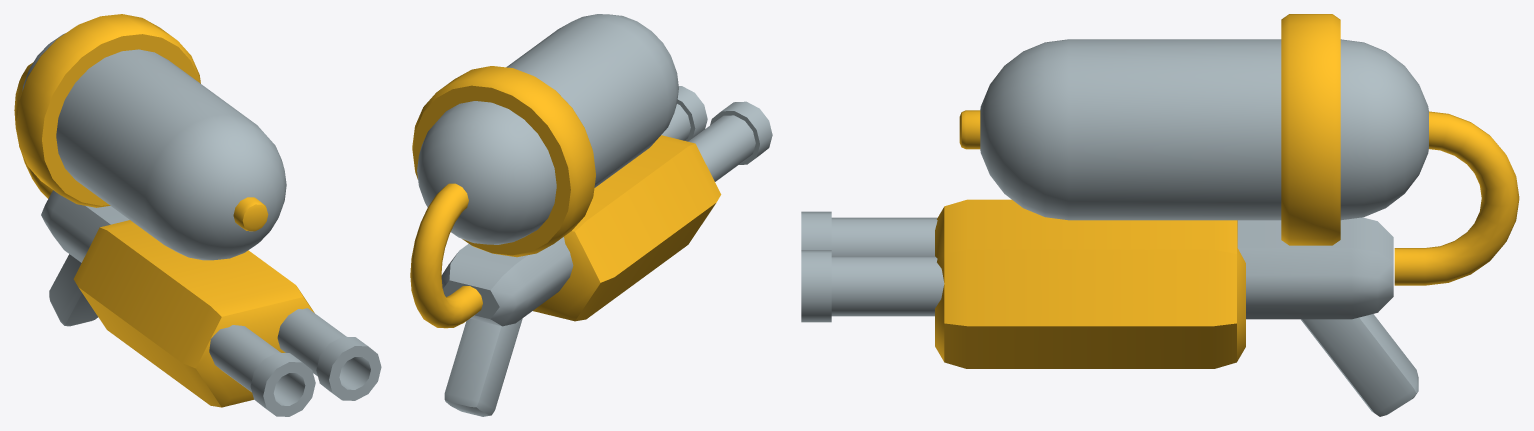
Rendered from blaster_teamYellow.glb.
3 renders of one model, left to right at view 1: azimuth 30°, elevation 25°; view 2: azimuth 150°, elevation 25°; view 3: azimuth 270°, elevation 25°, orthographic. The views are drawn at different scales.
Parts seen in each view (by area): view 1: blaster_teamYellow; view 2: blaster_teamYellow; view 3: blaster_teamYellow.
Part boxes in pixels (x1,y1,x2,y2): blaster_teamYellow: (14, 14, 381, 416); blaster_teamYellow: (410, 14, 772, 416); blaster_teamYellow: (801, 14, 1519, 416).
Size of the model in its own units: 0.1275 by 0.2331 by 0.3938.
